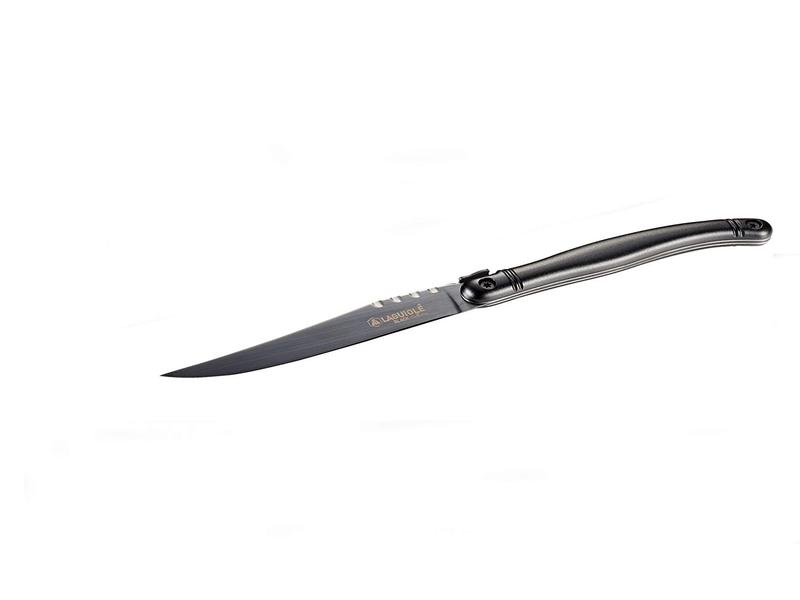KNIFE: (153, 213, 784, 384)
